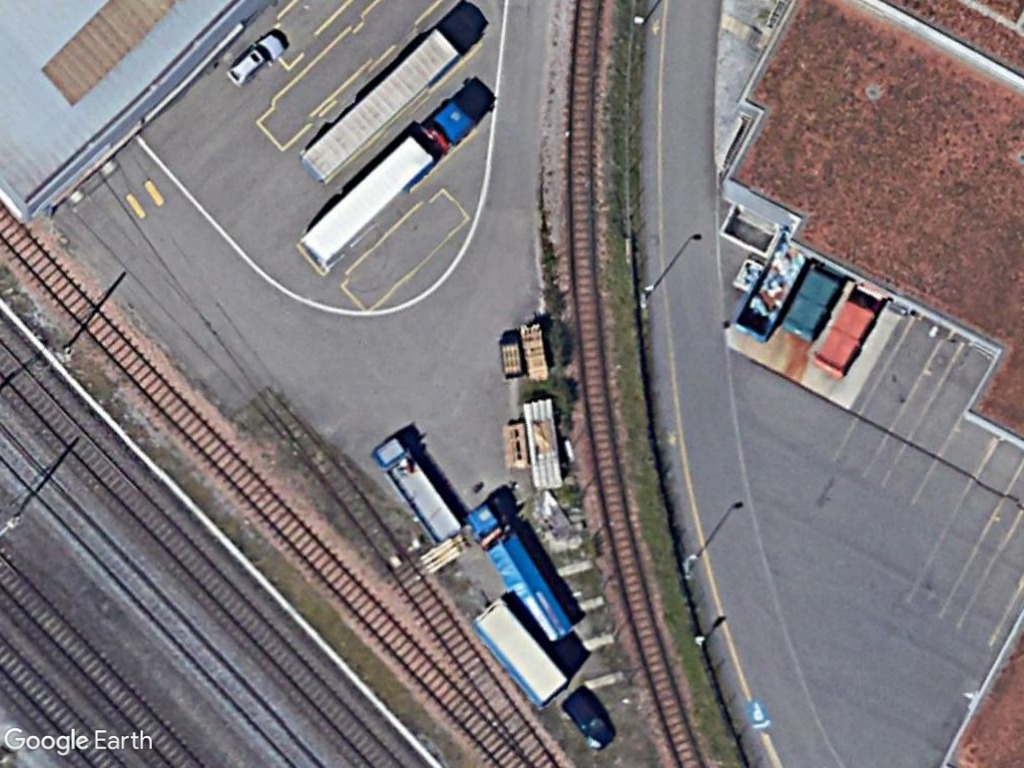car: (223, 25, 288, 91)
longvehicle: (290, 94, 477, 276), (298, 22, 461, 185)
others: (464, 493, 574, 643), (370, 431, 469, 547)
